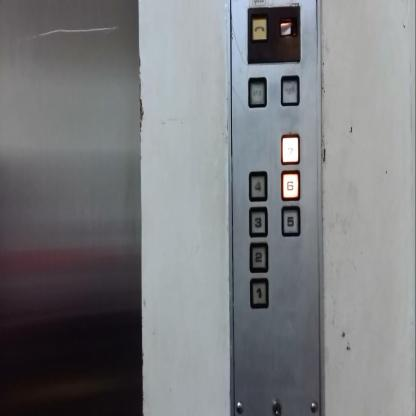1: (248, 276, 269, 310)
2: (248, 240, 269, 274)
3: (248, 204, 268, 238)
4: (248, 169, 268, 203)
5: (280, 204, 301, 238)
6: (280, 168, 301, 202)
blur: (279, 132, 301, 166)
call: (251, 17, 268, 41)
text_blur: (280, 73, 300, 107)
text_open door: (247, 75, 268, 109)
